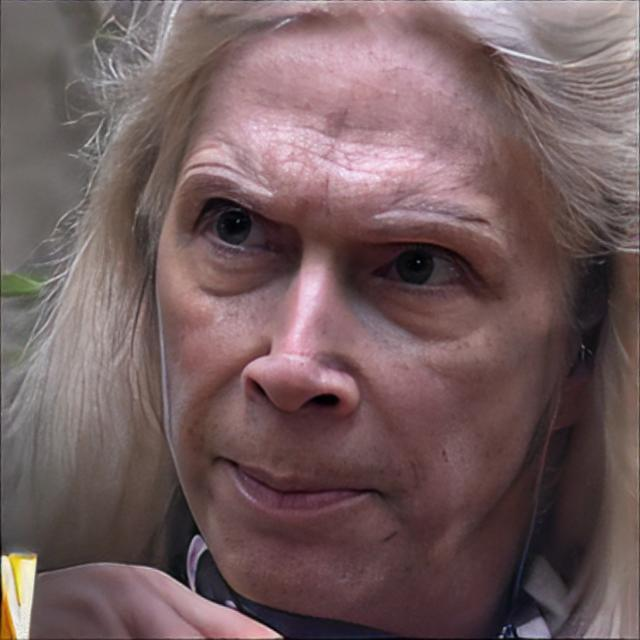anger: (145, 40, 558, 617)
